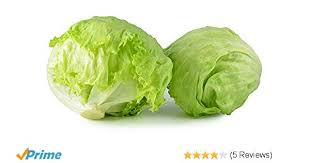Lettuce: (43, 15, 182, 126), (136, 25, 265, 137)
